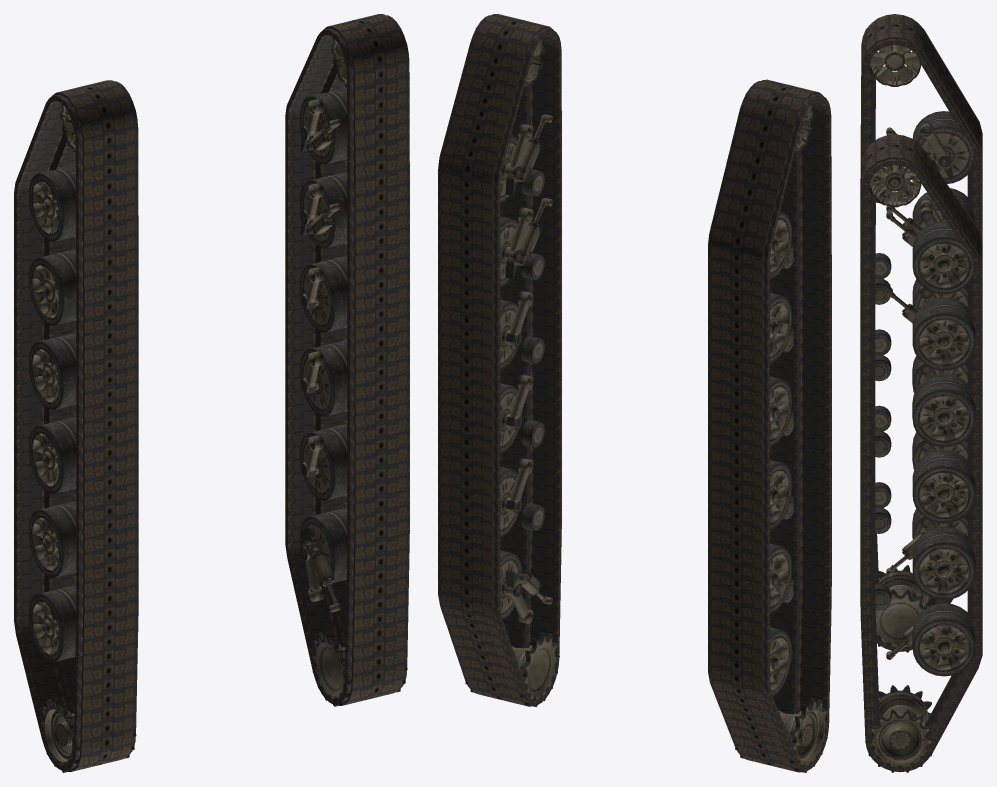
File: Chassis.glb
3 views of the same model, side by side, from view 1: azimuth 30°, elevation 25°; view 2: azimuth 150°, elevation 25°; view 3: azimuth 270°, elevation 25° (orthographic). The views are drawn at different scales.
Parts seen in each view (by area): view 1: set_1_group_0, set_0_group_0, set_3_group_0, set_2_group_0; view 2: set_1_group_0, set_0_group_0, set_3_group_0, set_2_group_0; view 3: set_3_group_0, set_0_group_0, set_2_group_0, set_1_group_0.
Part boxes in pixels (x1,y1,x2,y2): set_1_group_0: (14,80,138,771); set_0_group_0: (285,14,409,705); set_3_group_0: (300,38,407,706); set_2_group_0: (29,104,136,772); set_1_group_0: (708,79,831,772); set_0_group_0: (438,14,561,706); set_3_group_0: (465,38,559,706); set_2_group_0: (735,104,827,772); set_3_group_0: (865,165,975,772); set_0_group_0: (860,134,982,771); set_2_group_0: (868,45,975,652); set_1_group_0: (860,14,982,651).
Size of the model in its own units: 3.3 by 6.44 by 1.16.
Materials: 4 (4 with a texture image).
